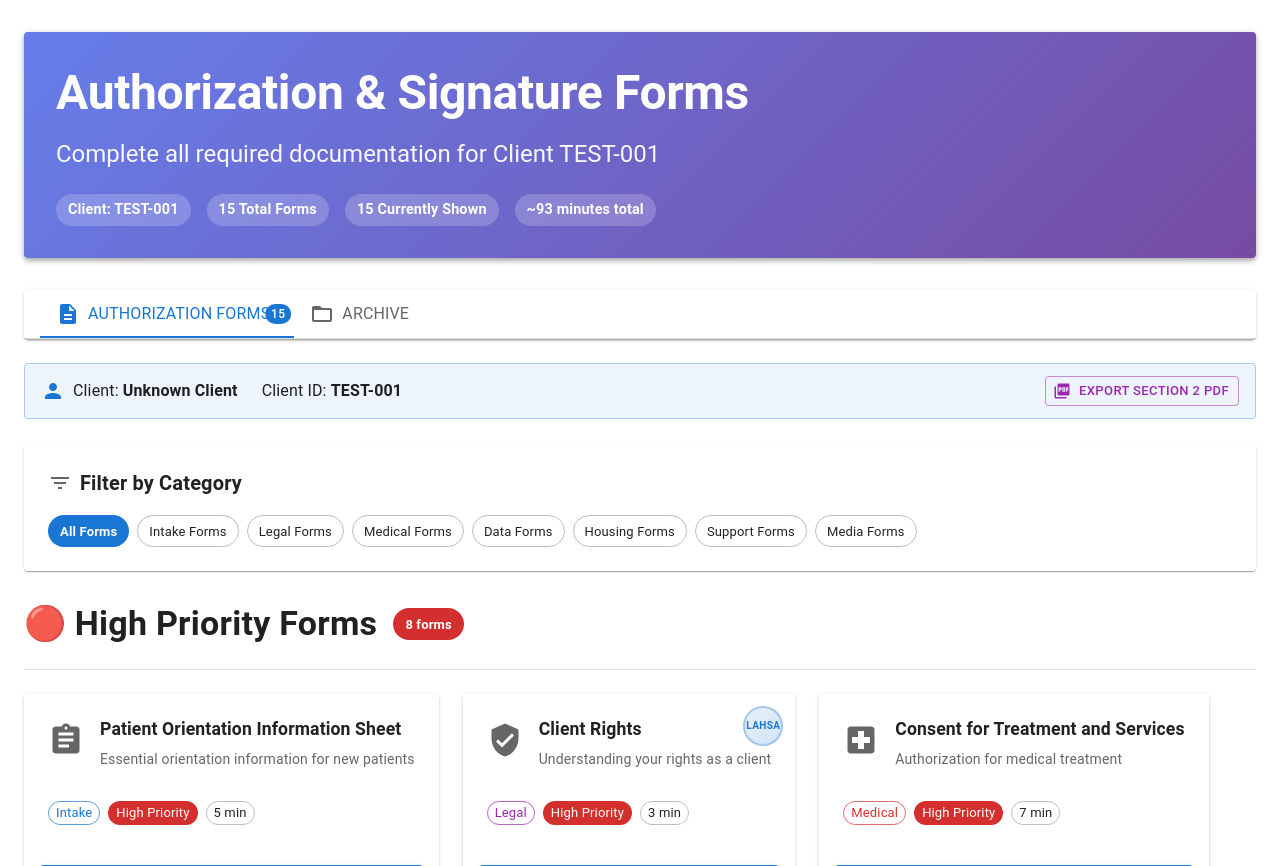
Test: AuthSig - Authorization Forms Container › Modal Functionality › should open modal when form card is clicked
The width and height of the screenshot is (1280, 866).
Click the heading "Client Rights" at coordinates (590, 729), box left=539, top=719, right=642, bottom=739
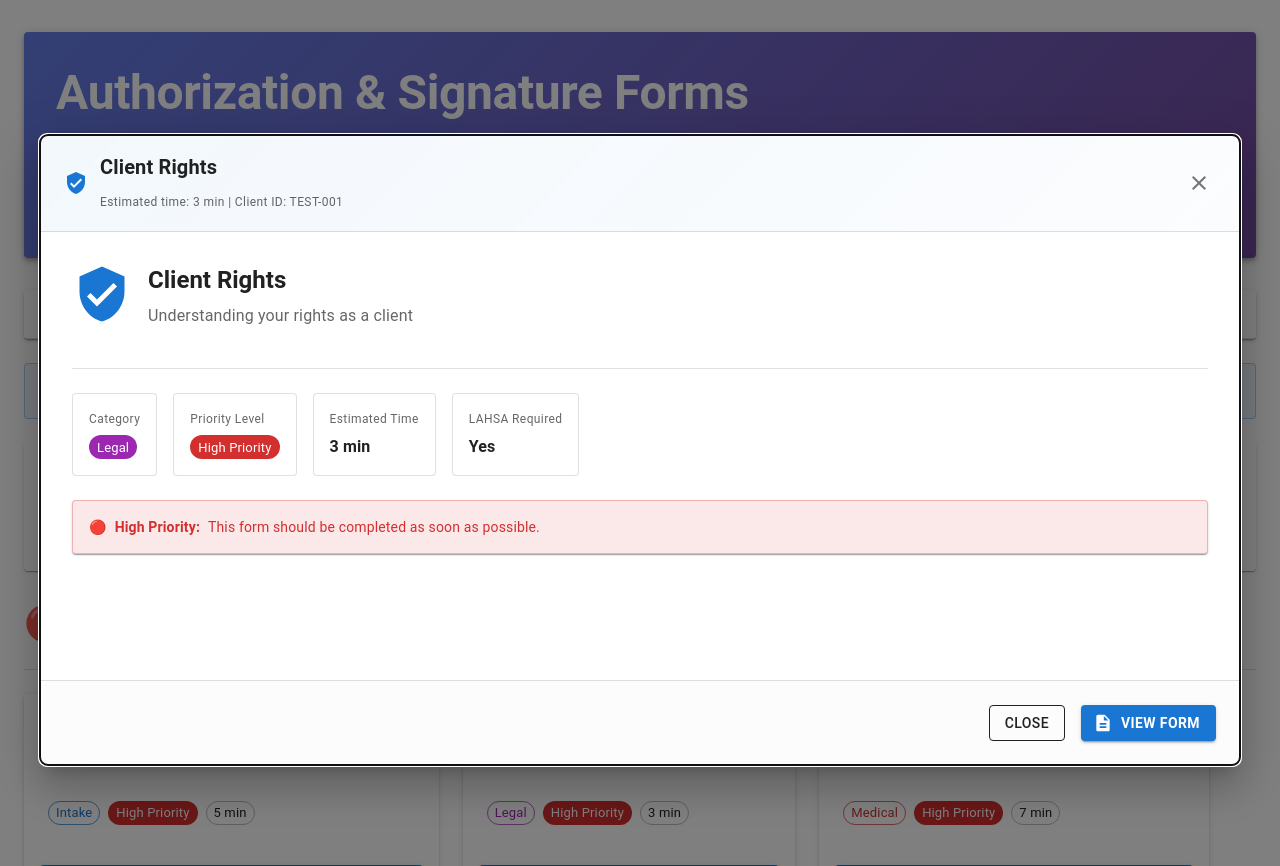
Now the dialog is shown
